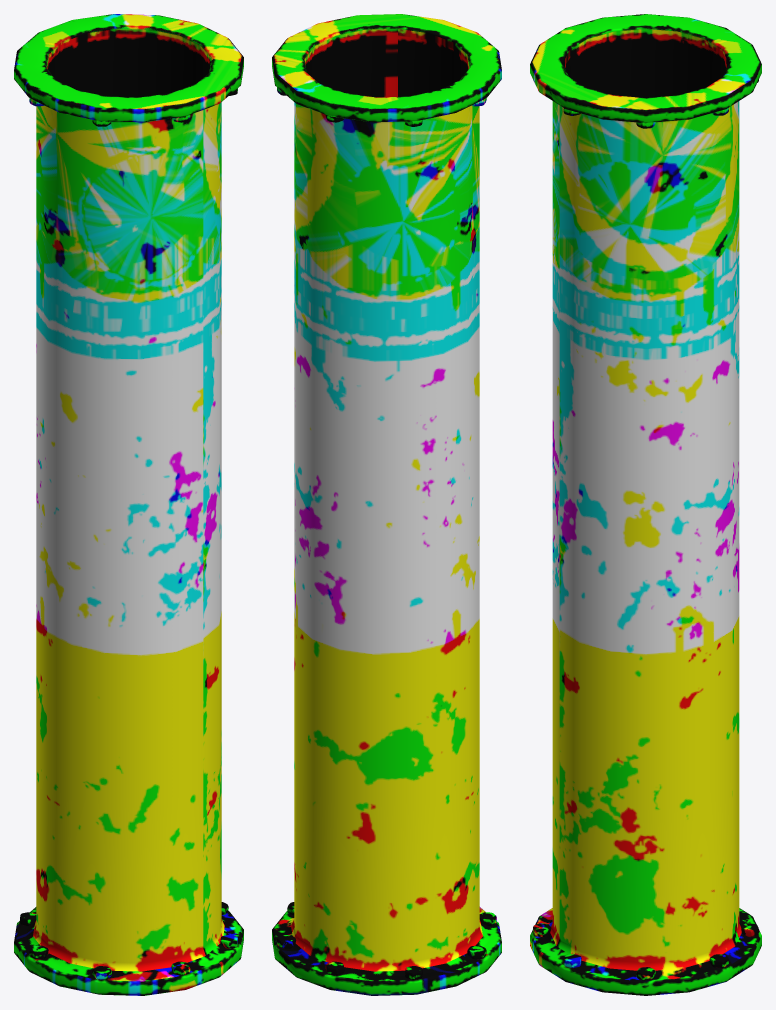
The model's file is sm_PipeStraight_01_02.fbx.
3 renders of one model, left to right at view 1: azimuth 30°, elevation 25°; view 2: azimuth 150°, elevation 25°; view 3: azimuth 270°, elevation 25°, orthographic.
Parts seen in each view (by area): view 1: sm_PipeStraight_01_02_LOD0; view 2: sm_PipeStraight_01_02_LOD0; view 3: sm_PipeStraight_01_02_LOD0.
Part boxes in pixels (<box>): sm_PipeStraight_01_02_LOD0: <box>14,14,243,995</box>; sm_PipeStraight_01_02_LOD0: <box>272,14,501,995</box>; sm_PipeStraight_01_02_LOD0: <box>530,14,761,995</box>.
Bounding box in the file's own units: 29.76 × 29.76 × 126.
